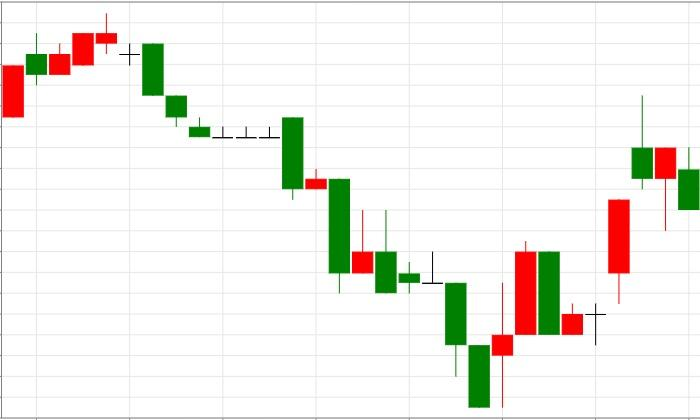hanging_man_fall: (562, 95, 676, 345)
shooting_star_fall: (562, 95, 653, 345)
